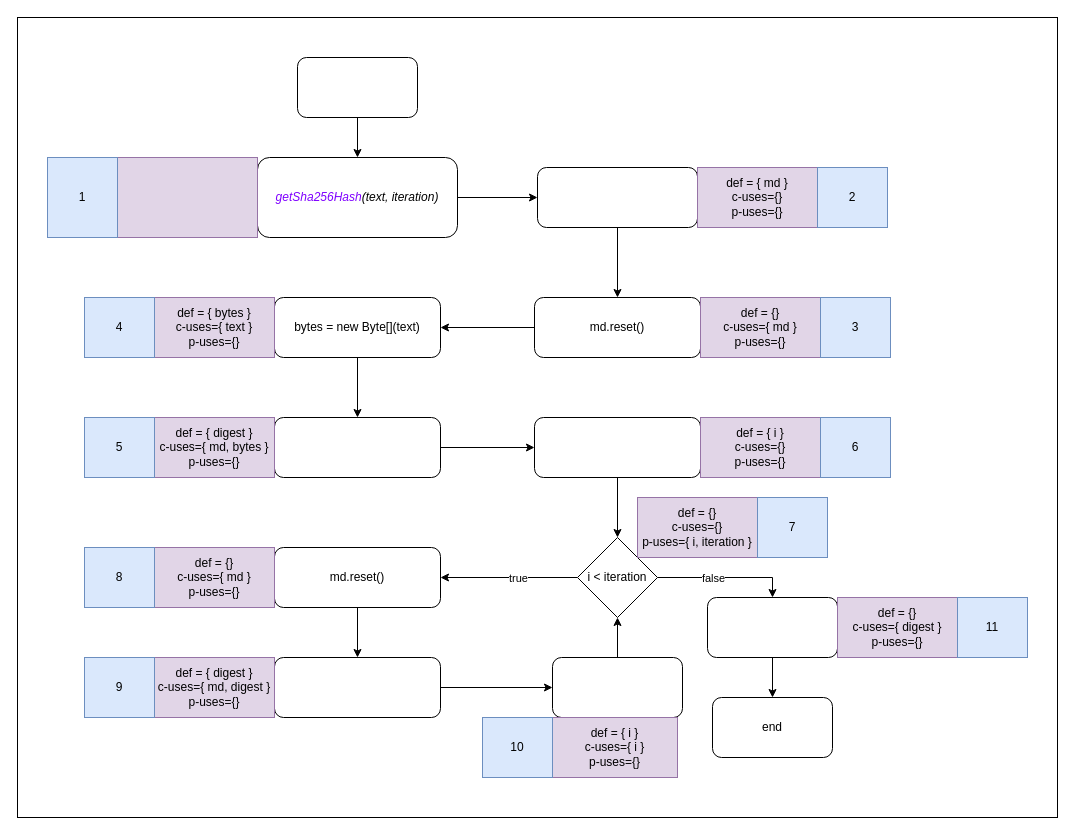
The diagram is 1075 pixels wide and 835 high, and some of its shapes have lost their labels. Here are the shapes that lost their labels. From the top down, the centre of each, then its label:
(x=357, y=87): start
(x=187, y=197): def = { text, iteration } c-uses={} p-uses={}
(x=617, y=197): md = new MessageDigest
(x=357, y=447): digest = md.digest(bytes)
(x=617, y=447): i = 0
(x=772, y=627): return digest
(x=357, y=687): digest = md.digest(digest)
(x=617, y=687): i = i + 1
